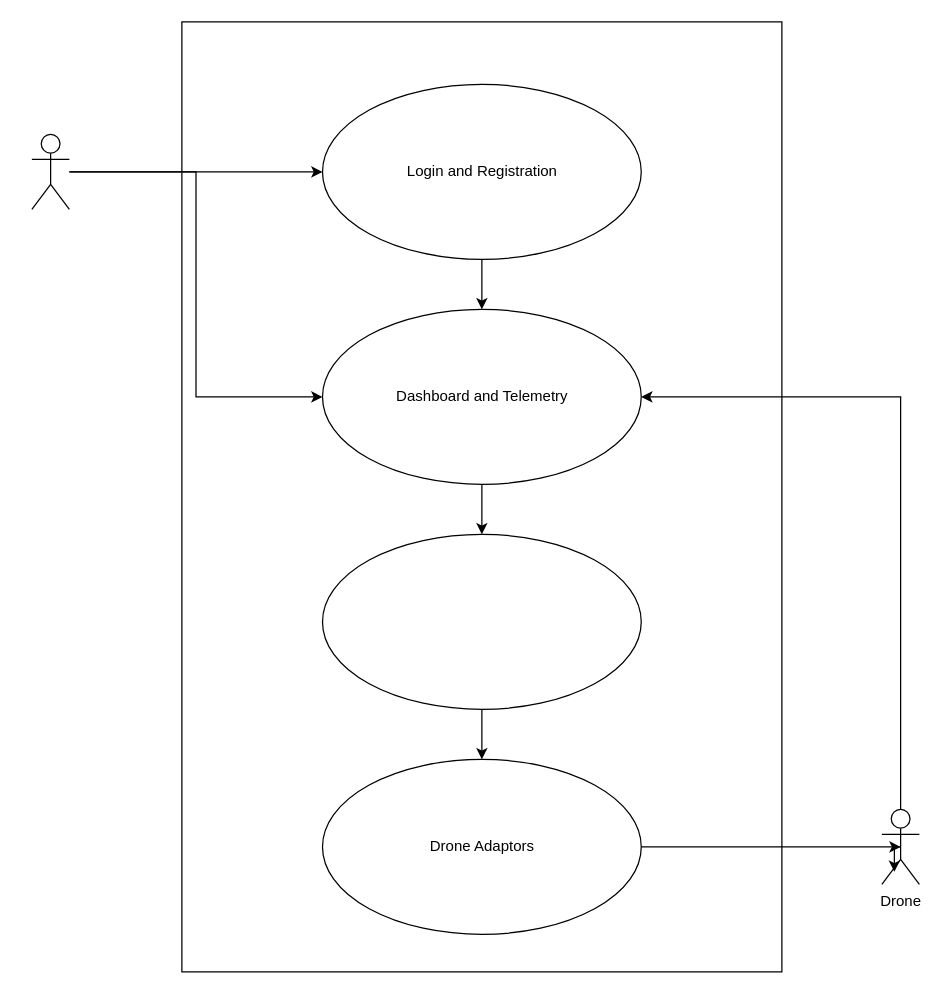
Image size: 943x994. Some labels were removed from this diagram. The centre of each missing label's shape, as x and y in pixels:
"Gesture Recognition" goes at (x=481, y=621).
"Operator" goes at (x=50, y=171).
